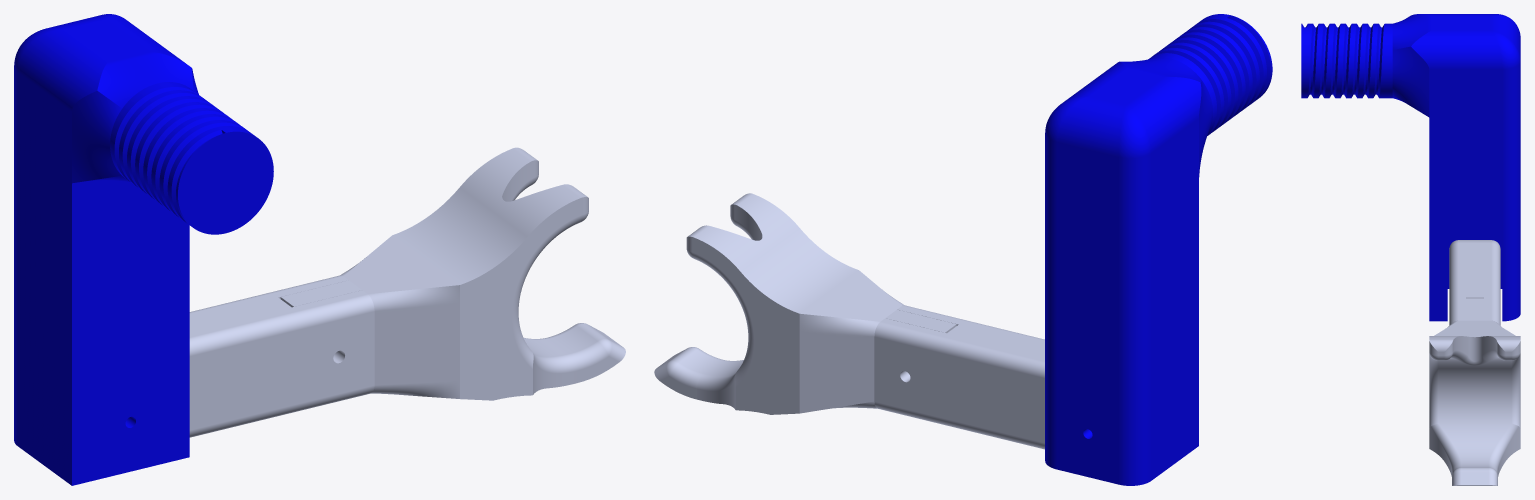
The model's file is left_arm.dae.
3 views of the same model, side by side, from view 1: azimuth 30°, elevation 25°; view 2: azimuth 150°, elevation 25°; view 3: azimuth 270°, elevation 25° (orthographic). The views are drawn at different scales.
Parts seen in each view (by area): view 1: 60b84da0780b09233c81c3cf (×3); view 2: 60b84da0780b09233c81c3cf (×3); view 3: 60b84da0780b09233c81c3cf (×3).
Boxes of the visible parts, box(x1,y1,x2,y2) form: 60b84da0780b09233c81c3cf (×3): box(14, 14, 625, 485); 60b84da0780b09233c81c3cf (×3): box(654, 14, 1272, 485); 60b84da0780b09233c81c3cf (×3): box(1301, 14, 1520, 485).
Size of the model in its own units: 0.2448 by 0.12 by 0.183.
